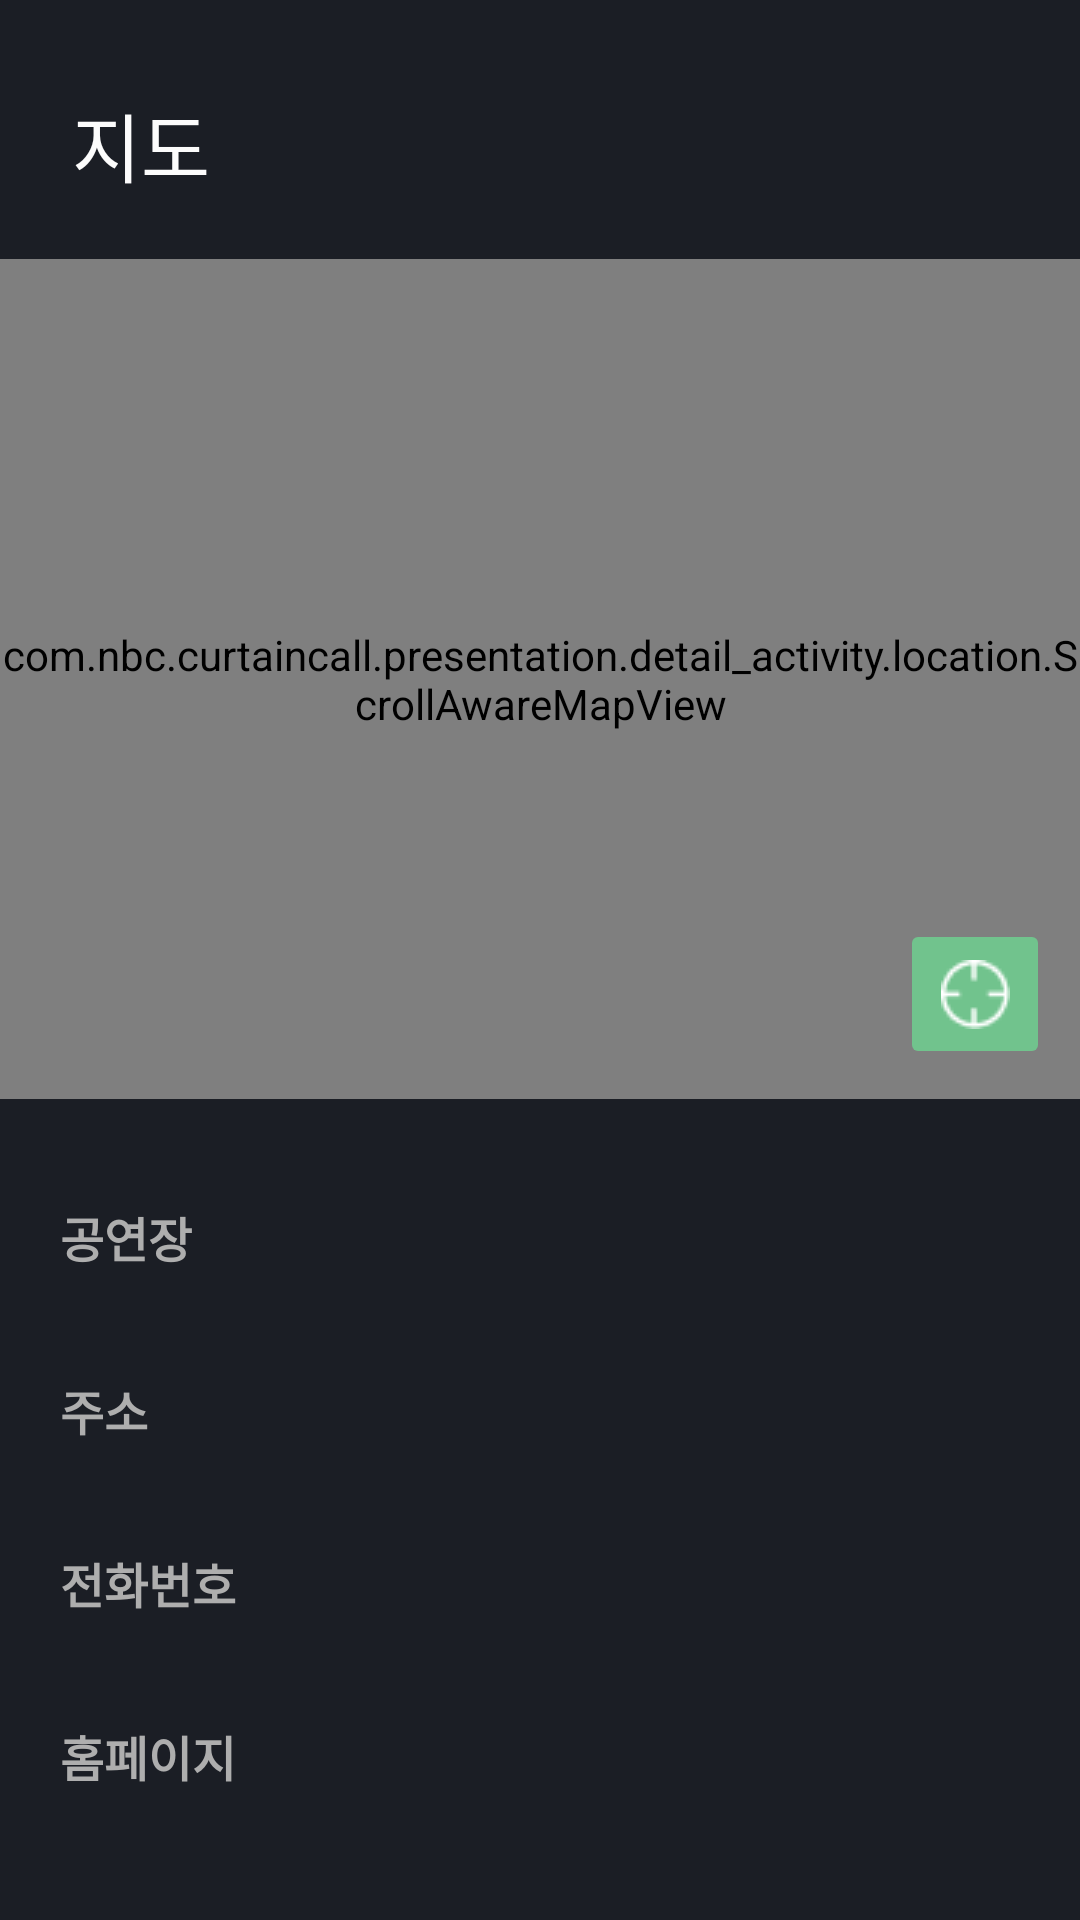

Icon bounding boxes for this 1080w x 1920h phone screenshot, format [x1=x1, y1=y1, x2=x2, y2=y2]:
location in place: [x1=912, y1=937, x2=1038, y2=1051]
